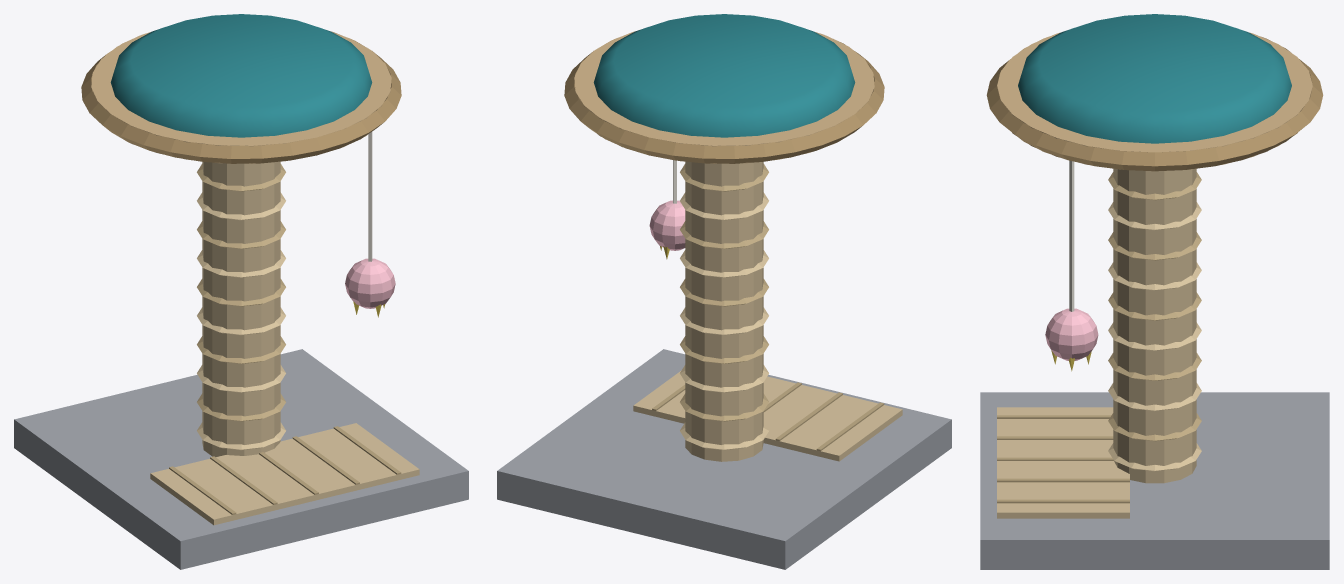
The model's file is cat_scratcher.glb.
3 views of the same model, side by side, from view 1: azimuth 30°, elevation 25°; view 2: azimuth 150°, elevation 25°; view 3: azimuth 270°, elevation 25° (orthographic). The views are drawn at different scales.
Visible parts, largest first — view 1: cat_scratcher; view 2: cat_scratcher; view 3: cat_scratcher.
Part boxes in pixels (x1,y1,x2,y2): cat_scratcher: (14,14,468,569); cat_scratcher: (497,14,951,569); cat_scratcher: (980,14,1329,569).
Bounding box in the file's own units: 0.525 × 0.7213 × 0.525.
